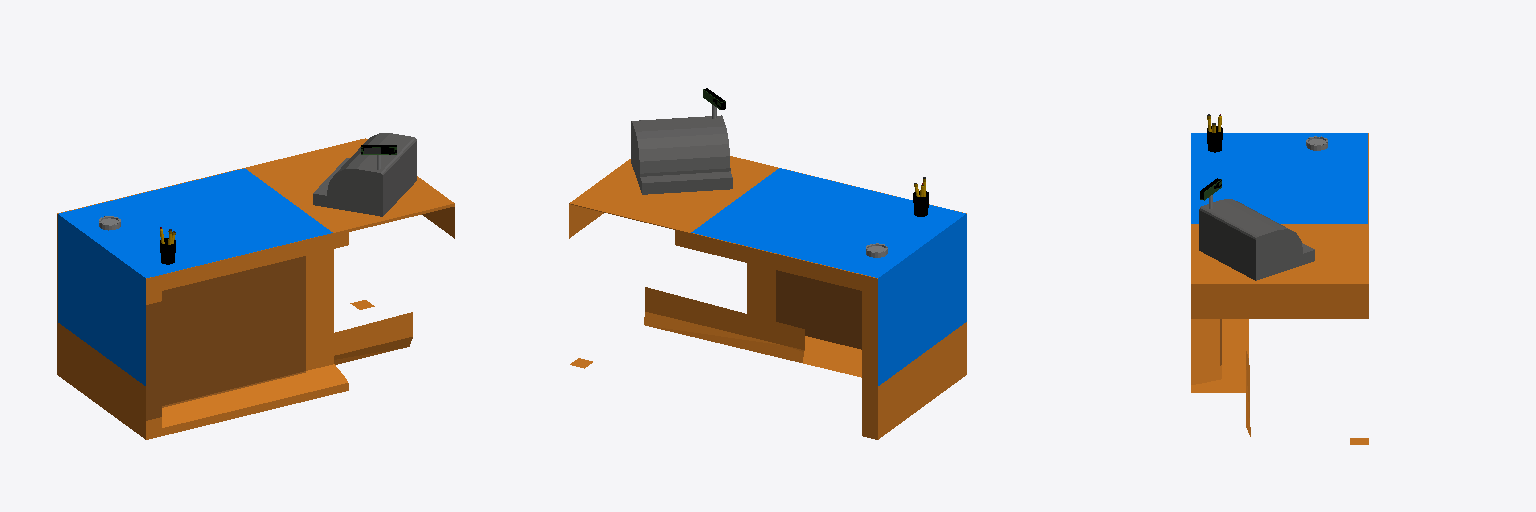
3 renders of one model, left to right at view 1: azimuth 30°, elevation 25°; view 2: azimuth 150°, elevation 25°; view 3: azimuth 270°, elevation 25°, orthographic.
Visible parts, largest first — view 1: pCube1, pCube2; view 2: pCube1, pCube2; view 3: pCube1, pCube2.
Part boxes in pixels (bbox=[...]): pCube1: bbox=[57, 138, 454, 439]; pCube2: bbox=[313, 133, 416, 216]; pCube1: bbox=[569, 156, 966, 439]; pCube2: bbox=[631, 115, 732, 194]; pCube1: bbox=[1191, 133, 1368, 444]; pCube2: bbox=[1199, 199, 1314, 280].
Size of the model in its own units: 2 by 1.41 by 1.
Materials: 6 (5 with a texture image).